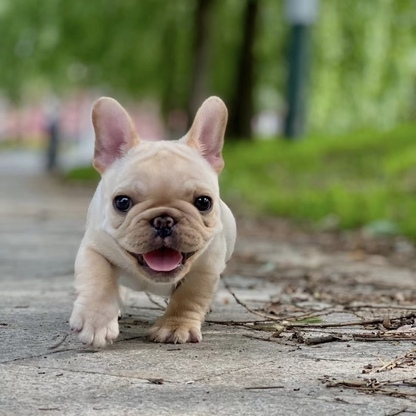bulldog: (67, 94, 239, 349)
